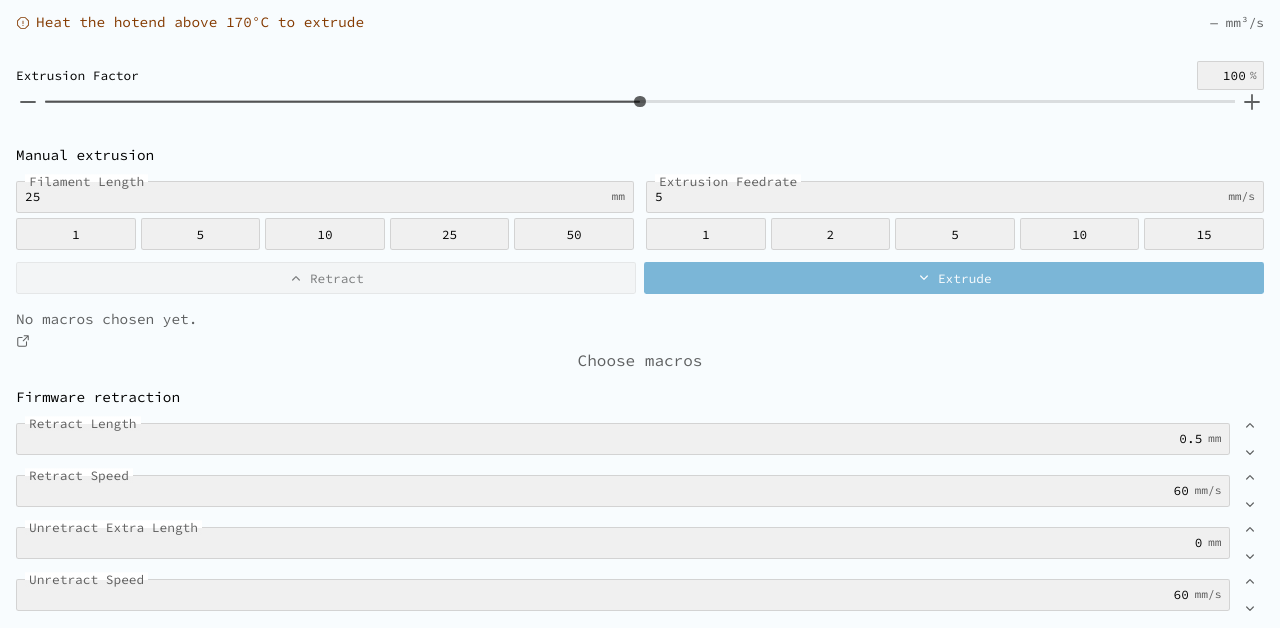
Test: ExtruderModule › keeps the configured retraction value as the reset baseline after a runtime commit
The width and height of the screenshot is (1280, 628).
Replace the text in the number field labelled "Retract speed mm/s" with "61": (607,491) [25,481,1189,500]
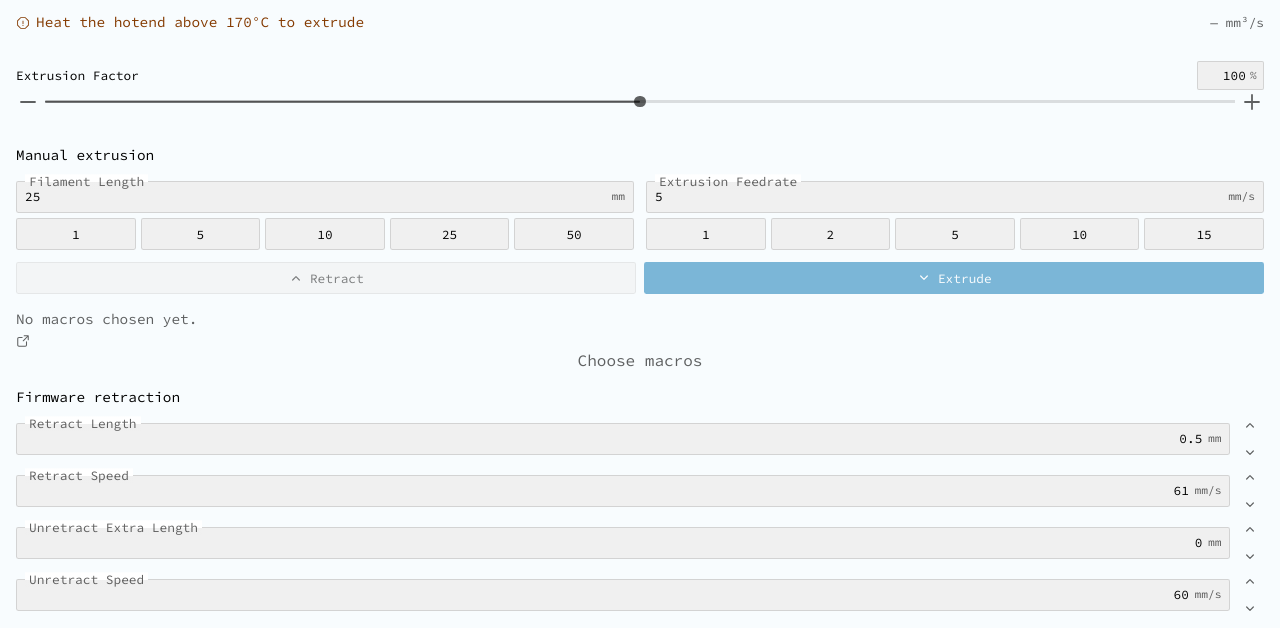
Press Enter in the number field labelled "Retract speed mm/s", box [25,481,1189,500]
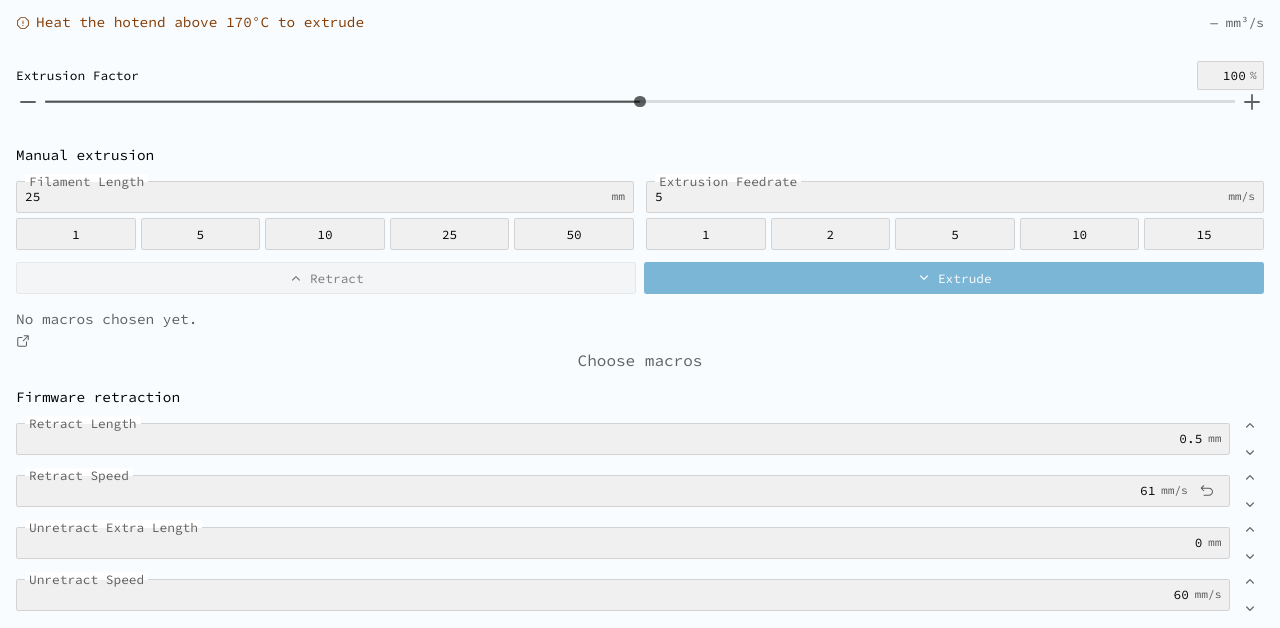
Expected: the button with class "app-field__reset" is shown
Click the button with class "app-field__reset": (1207,491) [1193,477,1221,505]
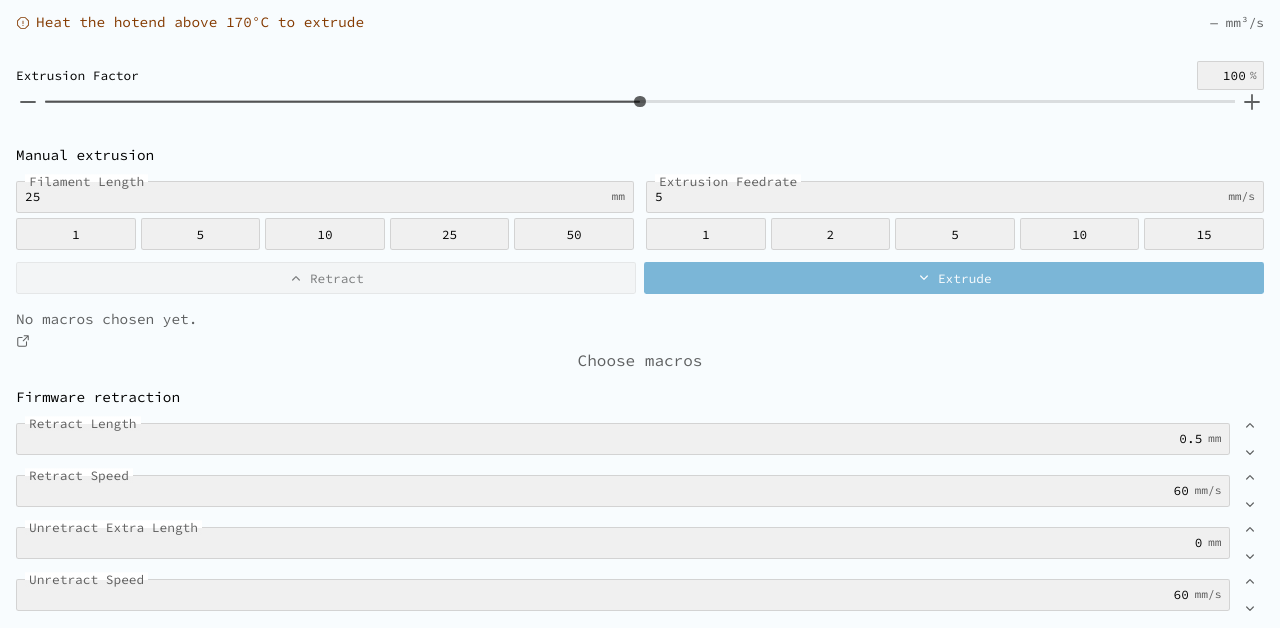
Expected: the number field labelled "Retract speed mm/s" holds "60", [25,481,1189,500]
